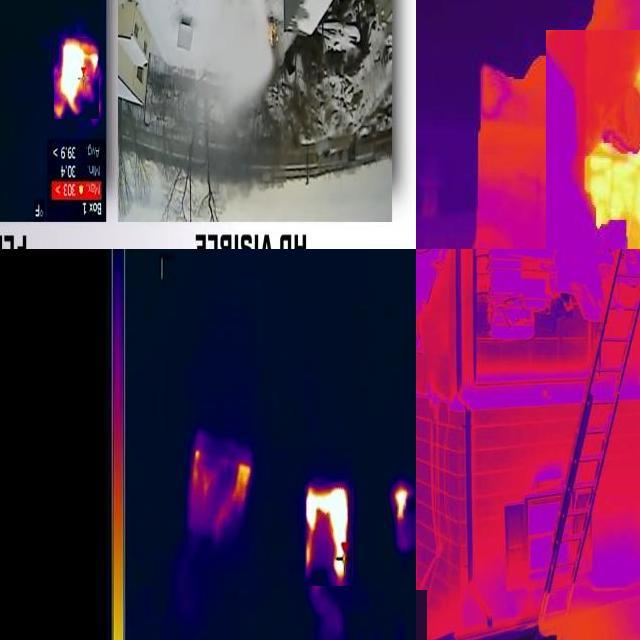fire: (583, 129, 640, 240), (306, 482, 353, 586), (54, 38, 99, 119), (393, 482, 409, 523)
